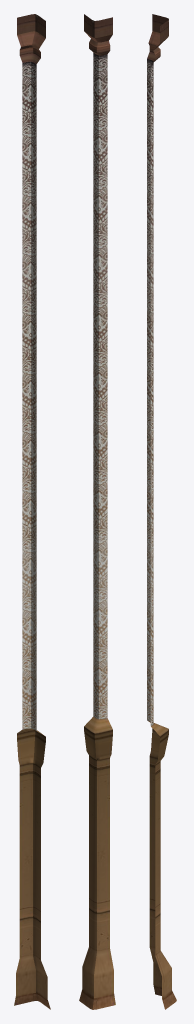
The model's file is 5m_wall_edge.fbx.
The picture shows the model from 3 angles, left to right: view 1: azimuth 30°, elevation 25°; view 2: azimuth 210°, elevation 25°; view 3: azimuth 330°, elevation 25°; orthographic projection.
Parts seen in each view (by area): view 1: wall_5m_edge; view 2: wall_5m_edge; view 3: wall_5m_edge.
Part boxes in pixels (x1=…): wall_5m_edge: x1=14, y1=14, x2=50, y2=1009; wall_5m_edge: x1=79, y1=14, x2=115, y2=1009; wall_5m_edge: x1=147, y1=14, x2=176, y2=1009.
Size of the model in its own units: 12.37 by 500 by 12.38.
1 material, 1 textured.
